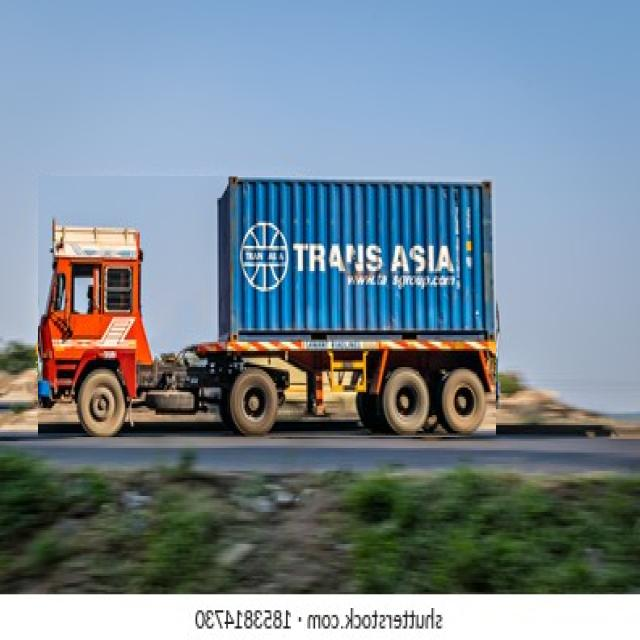truck: (38, 176, 496, 437)
